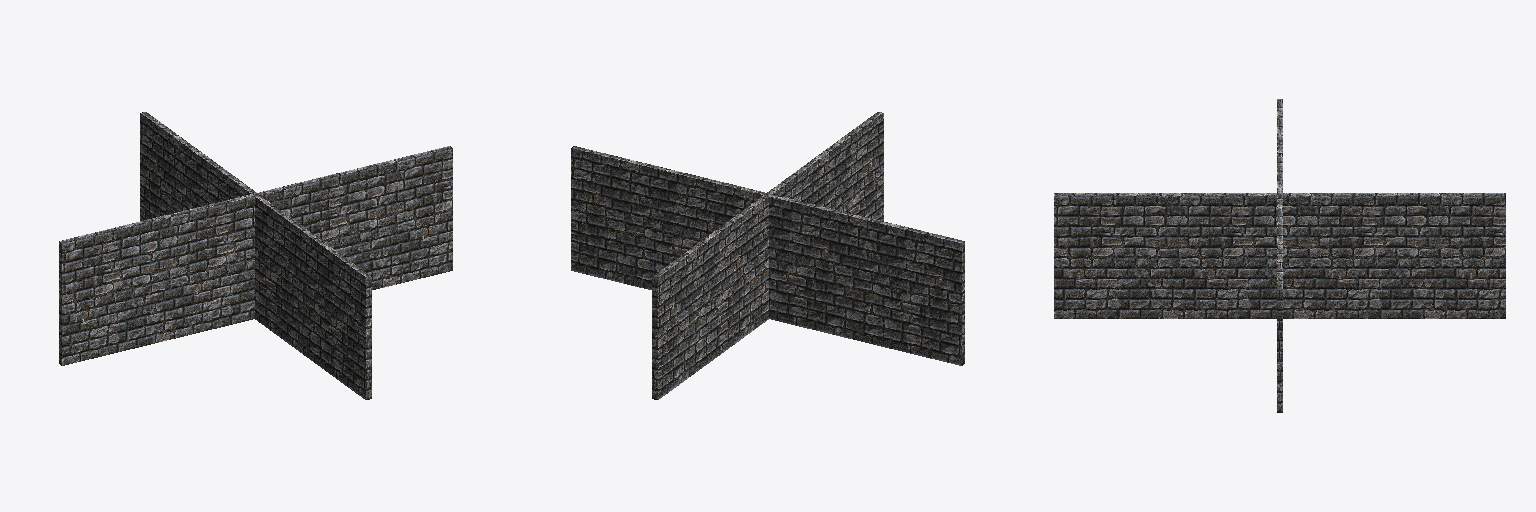
3 renders of one model, left to right at view 1: azimuth 30°, elevation 25°; view 2: azimuth 150°, elevation 25°; view 3: azimuth 270°, elevation 25°, orthographic.
Parts seen in each view (by area): view 1: Cube; view 2: Cube; view 3: Cube.
Part boxes in pixels (bbox=[...]): Cube: bbox=[59, 112, 452, 399]; Cube: bbox=[571, 112, 964, 399]; Cube: bbox=[1054, 99, 1505, 412].
Size of the model in its own units: 1 by 0.3 by 1.
Materials: 1 (1 with a texture image).